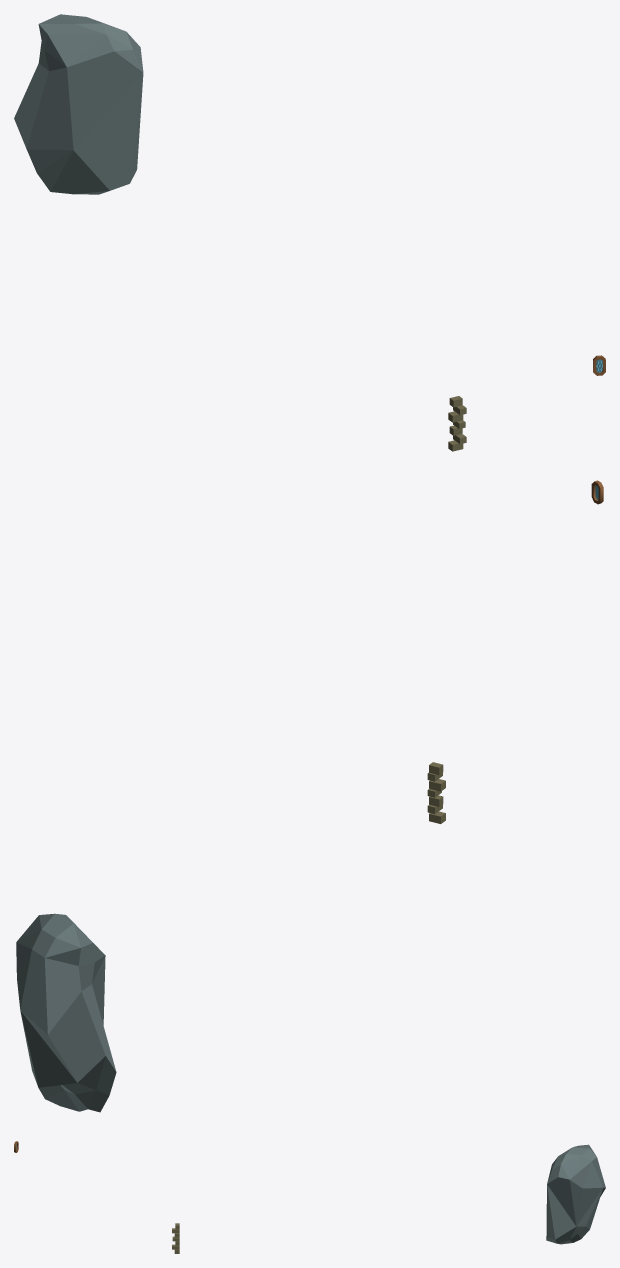
3 views of the same model, one above another, from view 1: azimuth 30°, elevation 25°; view 2: azimuth 150°, elevation 25°; view 3: azimuth 270°, elevation 25° (orthographic). The views are drawn at different scales.
Parts seen in each view (by area): view 1: Box274_rock_0, Box15336_rock2_0; view 2: Box274_rock_0, Box15336_rock2_0; view 3: Box274_rock_0, Box15336_rock2_0.
Part boxes in pixels (x1=…): Box274_rock_0: x1=14, y1=14, x2=143, y2=194; Box15336_rock2_0: x1=448, y1=396, x2=466, y2=451; Box274_rock_0: x1=16, y1=913, x2=116, y2=1112; Box15336_rock2_0: x1=427, y1=762, x2=445, y2=823; Box274_rock_0: x1=546, y1=1144, x2=605, y2=1244; Box15336_rock2_0: x1=172, y1=1223, x2=179, y2=1253.
Bounding box in the file's own units: 605 × 1159 × 5623.
